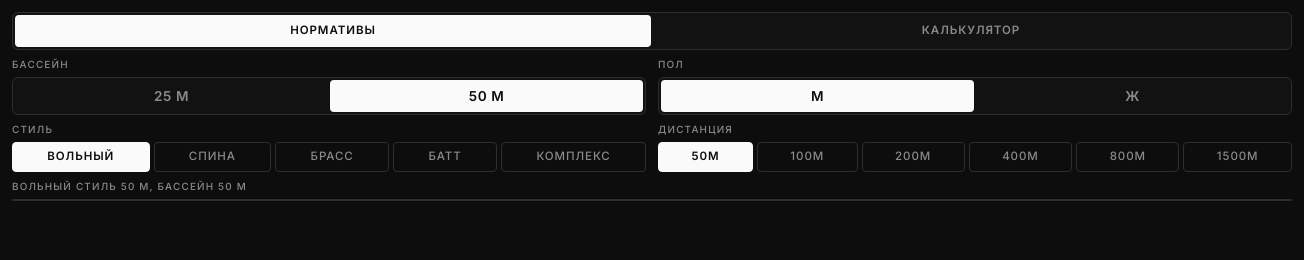
Test: the two modes on one page › shows the table or the calculator, never both
This screenshot has width=1304, height=260.
Expected: the field labelled "Время" is not shown
Click the tab "Калькулятор" at (971, 31), box [653,15,1289,47]
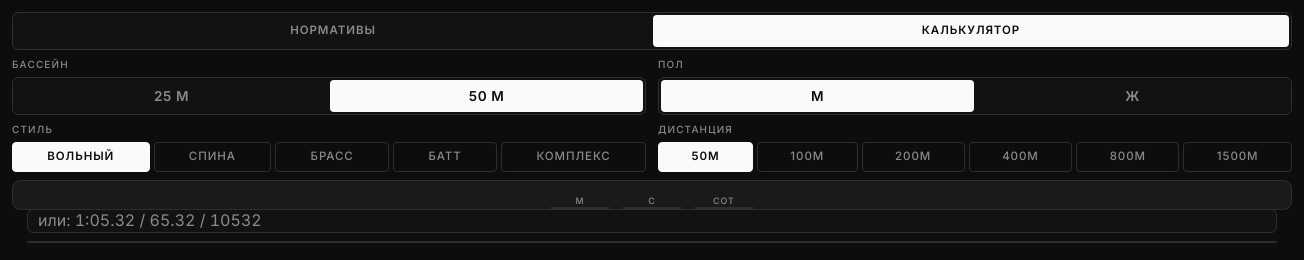
Expected: the field named "Время" is shown, [27,209,1277,233]
